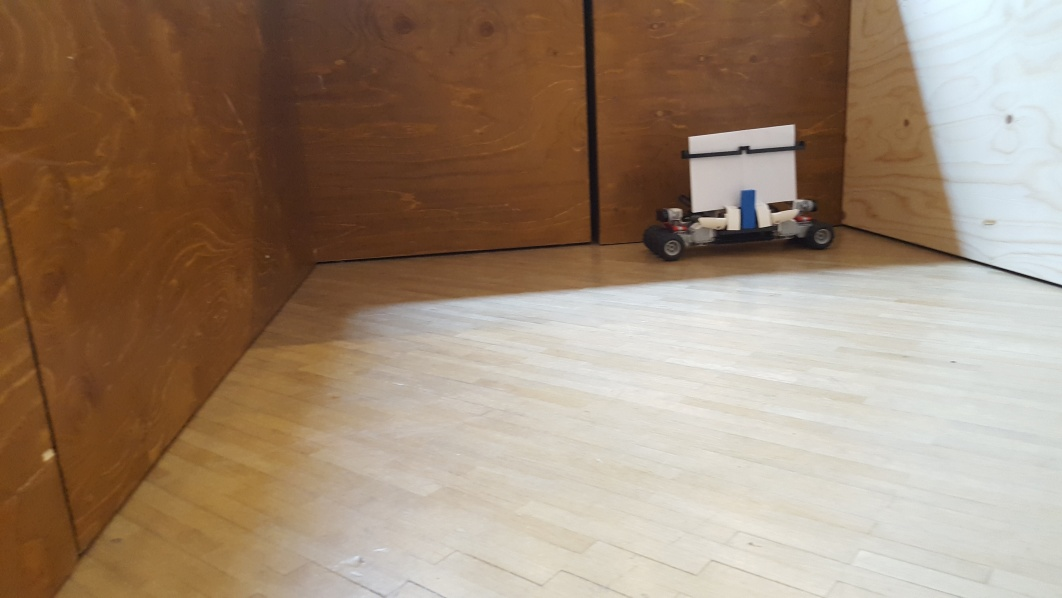car: (642, 123, 833, 261)
